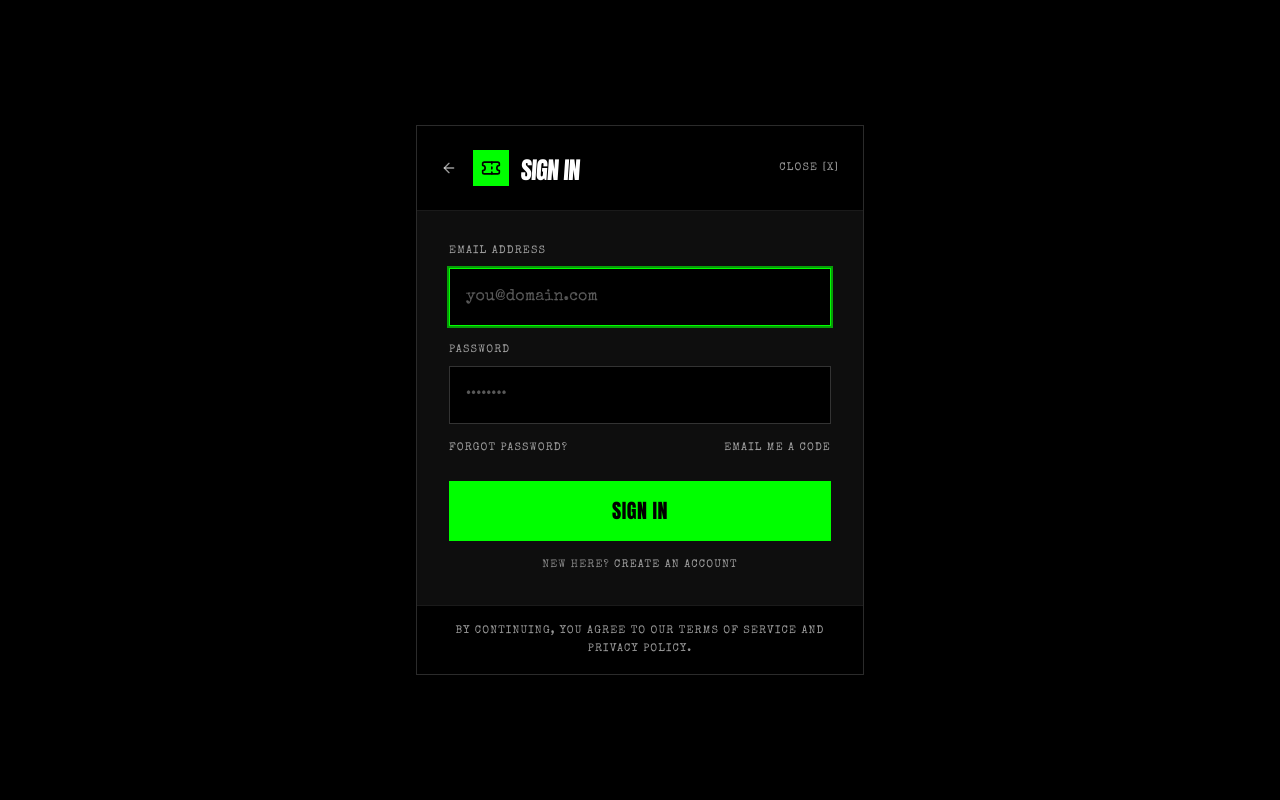
Test: AuthModal: sign in › maps invalid credentials to a friendly alert
Type " Fan@Example.com " into the field labelled "Email Address" at (640, 297), box [449,268,831,326]
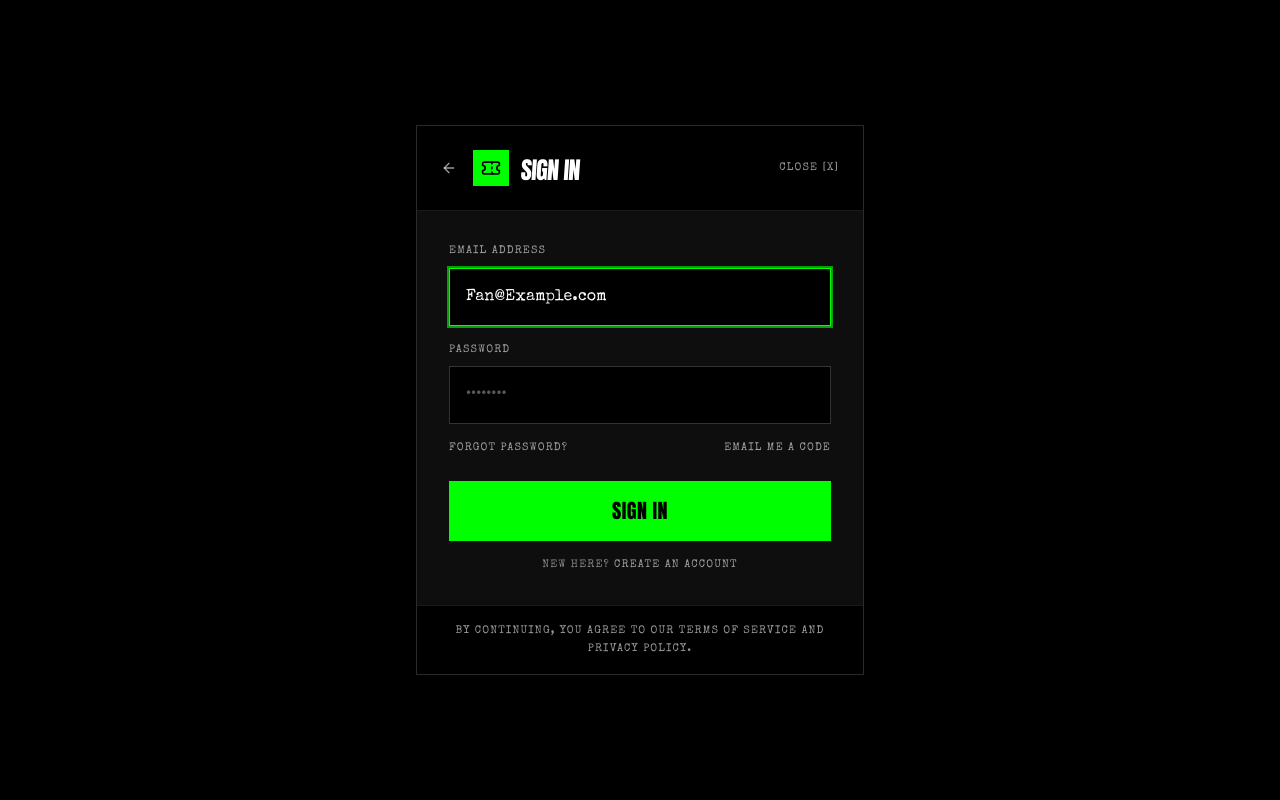
Type "whatever1" into the password field labelled "Password" at (640, 395), box [449,366,831,424]
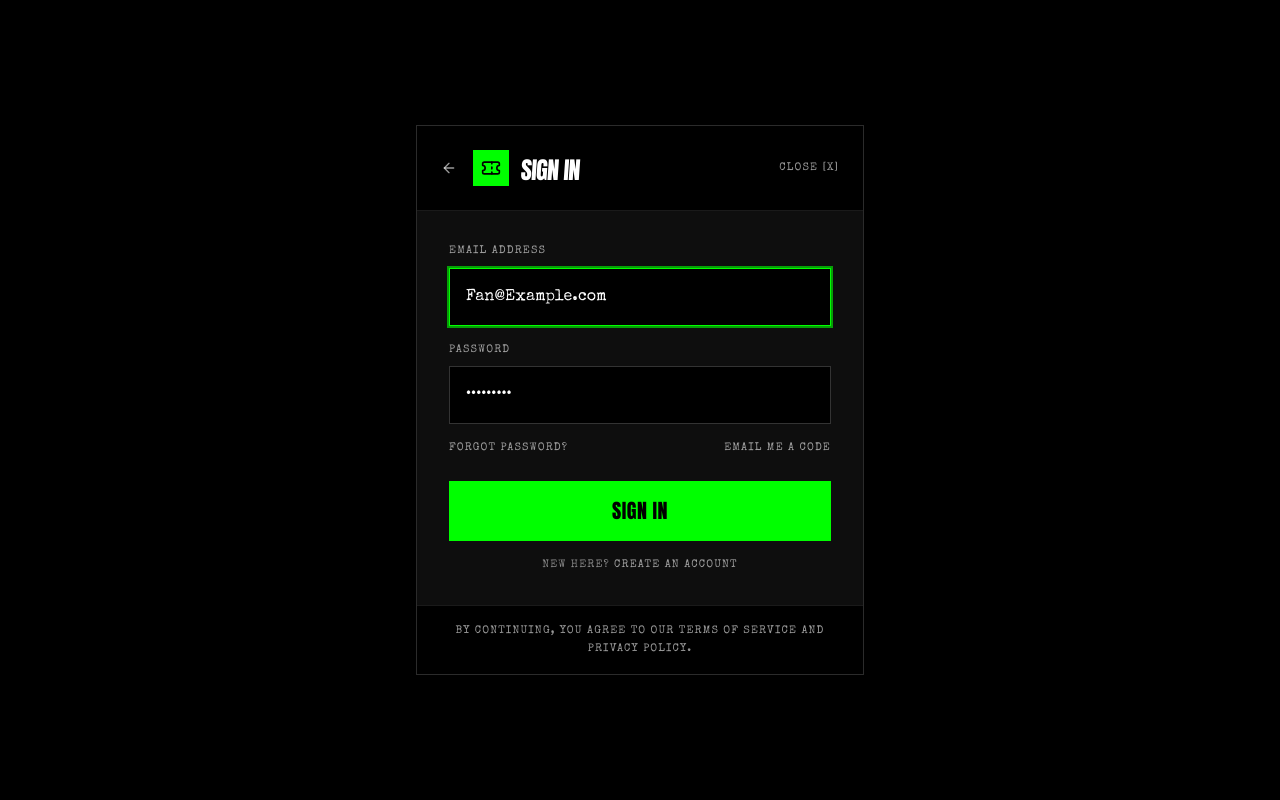
Click the button "Sign In" at (640, 511), box [449,481,831,541]
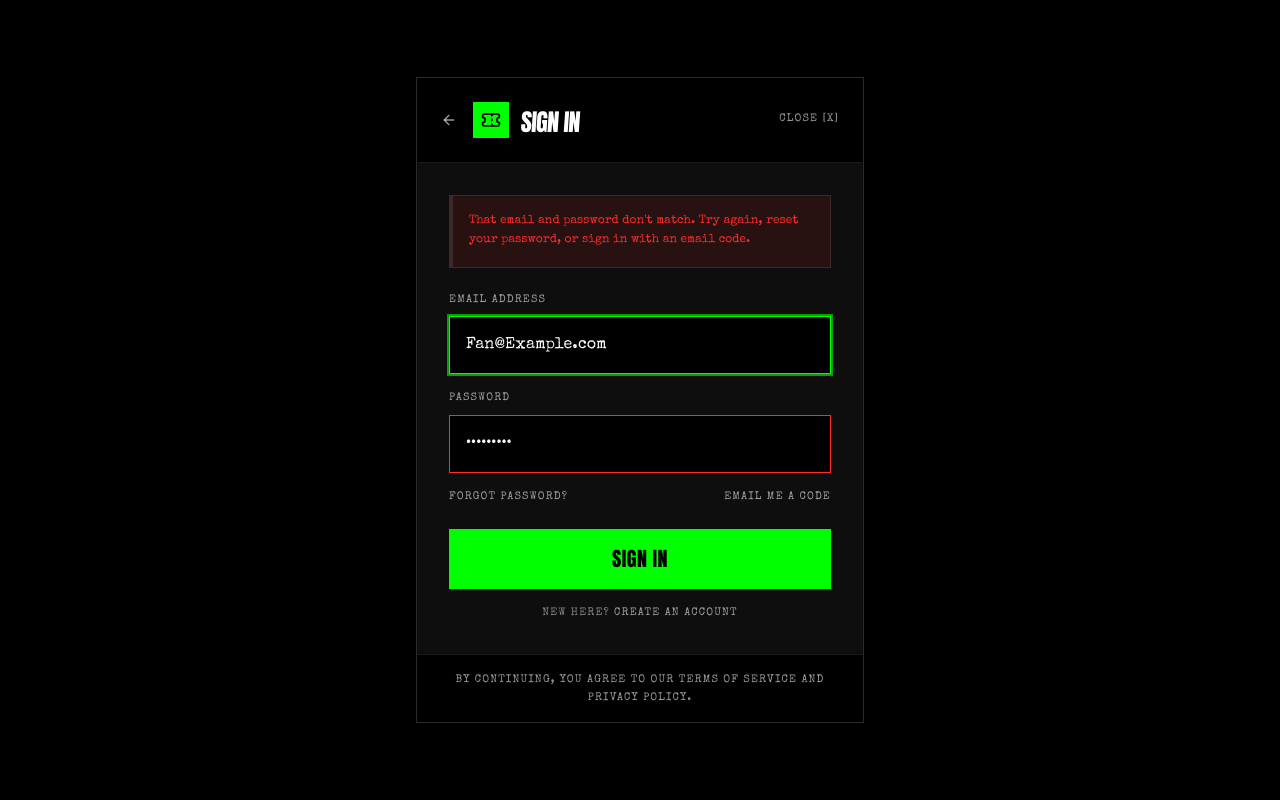
Check: the message shows "don't match", box [469,215,798,246]
